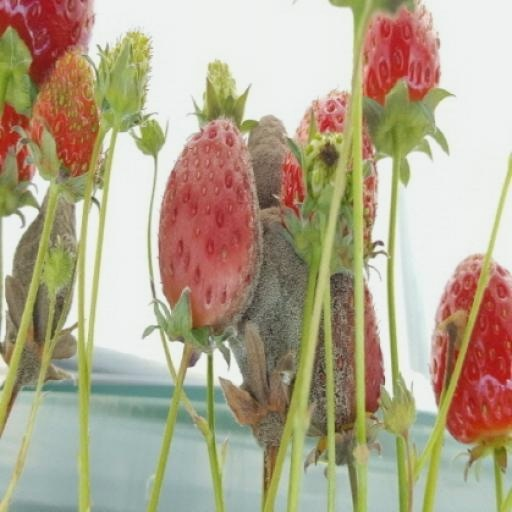Gray Mold: (159, 144, 263, 393), (220, 24, 310, 297), (0, 107, 83, 329), (303, 40, 388, 237), (248, 284, 301, 398)
